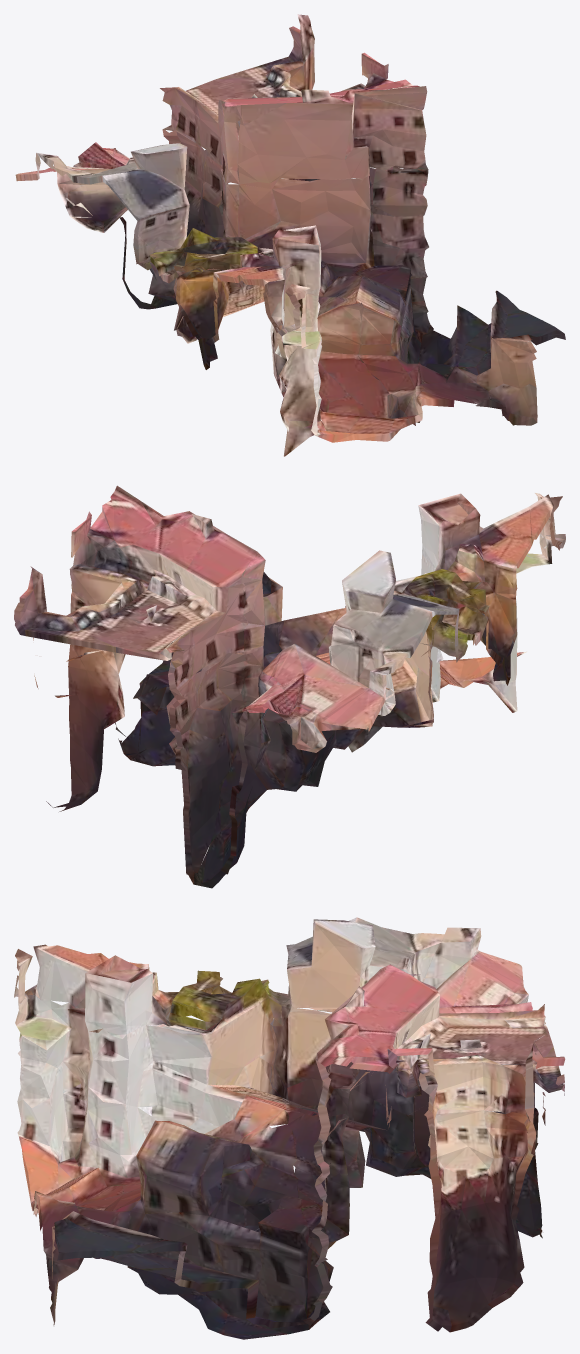
The picture shows the model from 3 angles, top to bottom: view 1: azimuth 30°, elevation 25°; view 2: azimuth 150°, elevation 25°; view 3: azimuth 270°, elevation 25°; orthographic projection. The views are drawn at different scales.
Visible parts, largest first — view 1: Mesh_0; view 2: Mesh_0; view 3: Mesh_0.
Boxes of the visible parts, x1,y1,x2,y2 form: Mesh_0: (15, 14, 565, 456); Mesh_0: (14, 485, 565, 888); Mesh_0: (14, 917, 565, 1339).
Size of the model in its own units: 33.34 by 25.84 by 41.45.
1 material, 1 textured.
